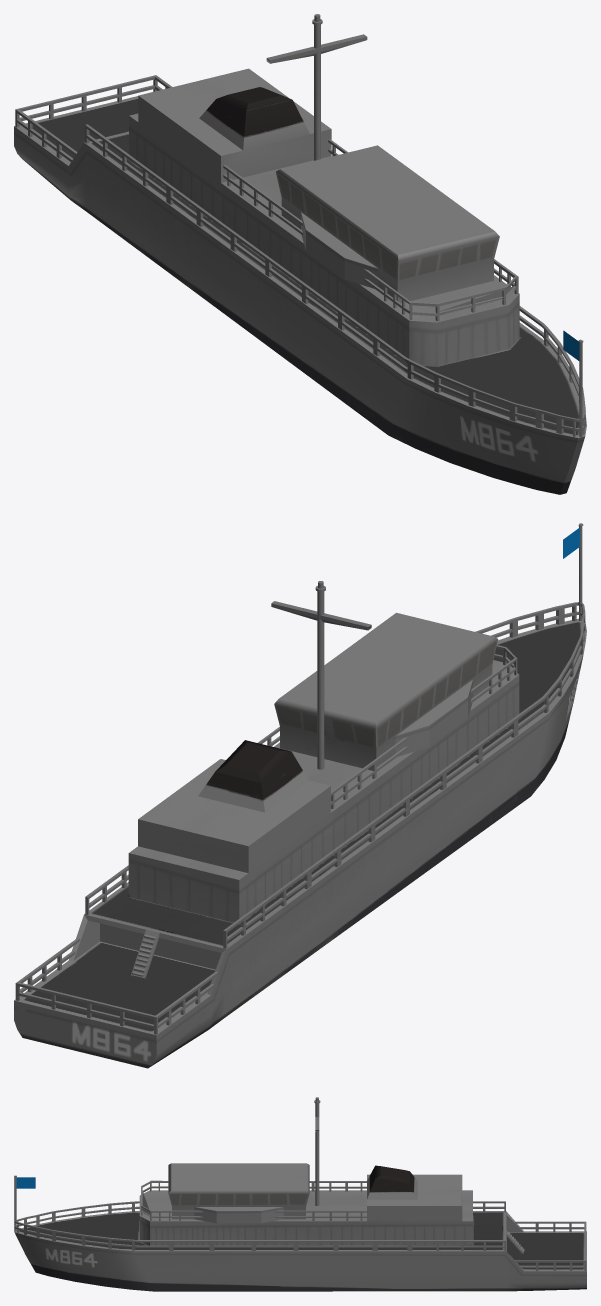
The model's file is Zr.Ms.Willemstad.fbx.
3 renders of one model, top to bottom at view 1: azimuth 30°, elevation 25°; view 2: azimuth 150°, elevation 25°; view 3: azimuth 270°, elevation 25°, orthographic. The views are drawn at different scales.
Visible parts, largest first — view 1: pCylinder3; view 2: pCylinder3; view 3: pCylinder3.
Boxes of the visible parts, x1,y1,x2,y2 form: pCylinder3: (14, 14, 586, 494); pCylinder3: (14, 523, 586, 1068); pCylinder3: (14, 1097, 586, 1291).
Bounding box in the file's own units: 8.52 × 17.15 × 51.43.
Materials: 1 (1 with a texture image).
